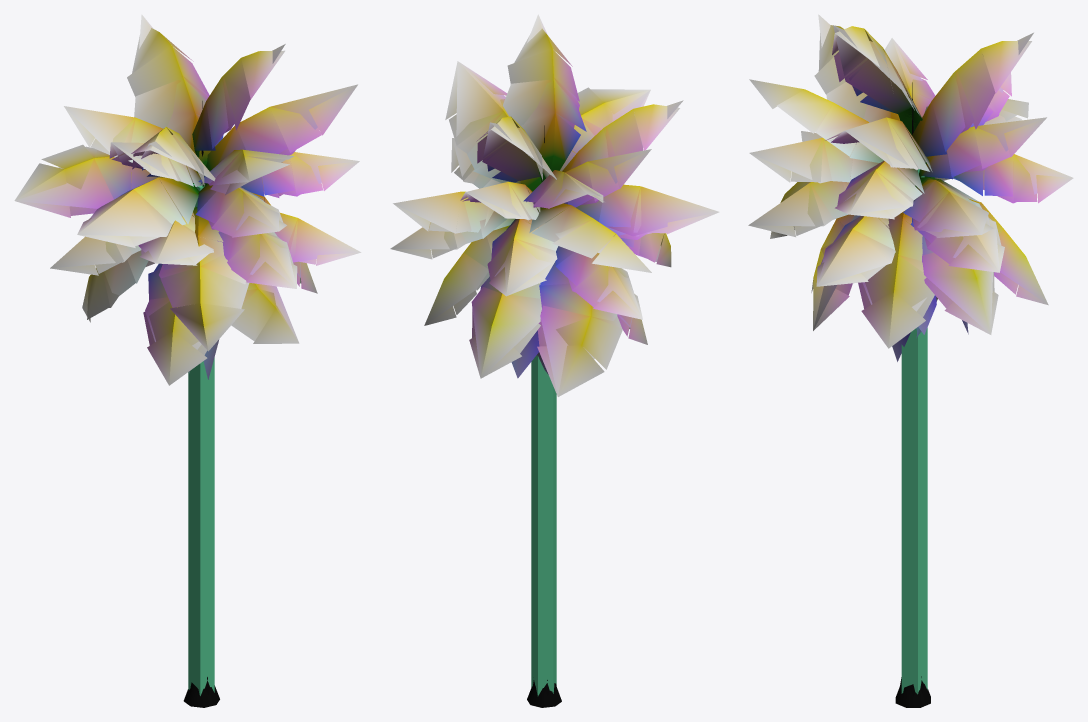
Rendered from tree_palm_a.dae.
3 renders of one model, left to right at view 1: azimuth 30°, elevation 25°; view 2: azimuth 150°, elevation 25°; view 3: azimuth 270°, elevation 25°, orthographic. The views are drawn at different scales.
Parts seen in each view (by area): view 1: tree_oak_bush_a350, tree_oak_bush_a120, Colmesh-1; view 2: tree_oak_bush_a350, tree_oak_bush_a120, Colmesh-1; view 3: tree_oak_bush_a350, tree_oak_bush_a120, Colmesh-1.
Part boxes in pixels (<box>): tree_oak_bush_a350: <box>14,28,360,707</box>; tree_oak_bush_a120: <box>15,14,361,349</box>; Colmesh-1: <box>188,184,214,695</box>; tree_oak_bush_a350: <box>391,28,718,707</box>; tree_oak_bush_a120: <box>390,14,718,396</box>; Colmesh-1: <box>531,355,556,696</box>; tree_oak_bush_a350: <box>749,25,1073,707</box>; tree_oak_bush_a120: <box>748,14,1072,334</box>; Colmesh-1: <box>901,169,927,694</box>.
Bounding box in the file's own units: 7.23 × 7.02 × 16.63.
